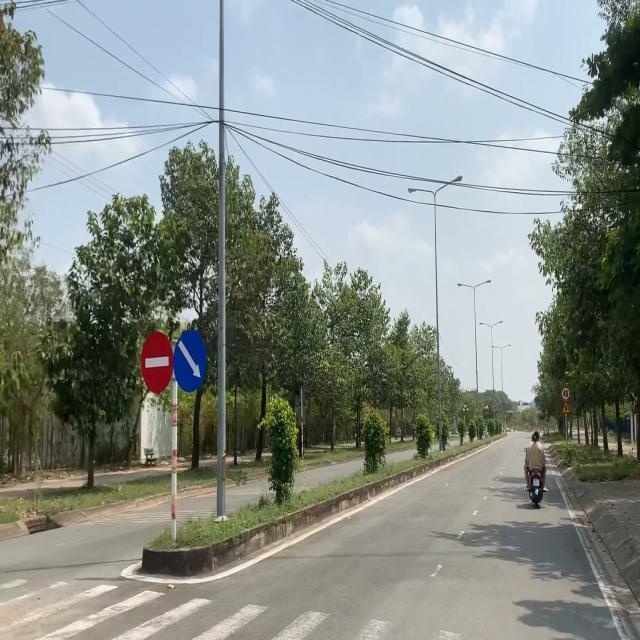bien_nguy_hiem: (173, 330, 207, 392), (141, 331, 173, 395)
